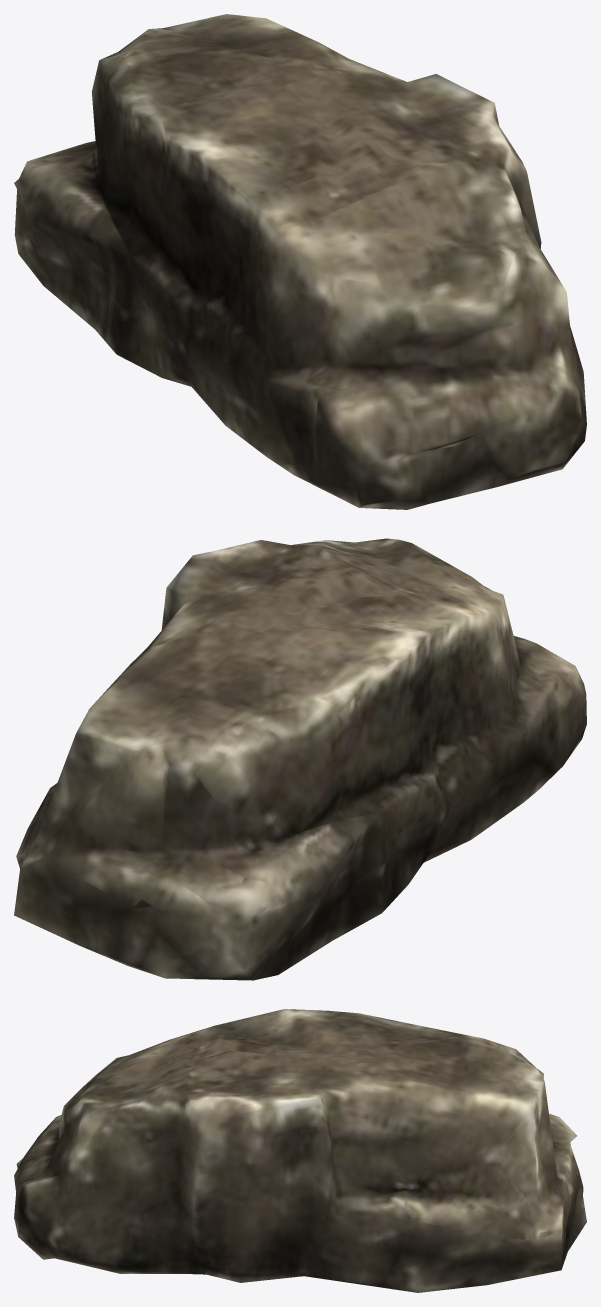
The model's file is ShiTou_5.fbx.
3 renders of one model, top to bottom at view 1: azimuth 30°, elevation 25°; view 2: azimuth 150°, elevation 25°; view 3: azimuth 270°, elevation 25°, orthographic. The views are drawn at different scales.
Visible parts, largest first — view 1: SM_RP_Vol_01_16; view 2: SM_RP_Vol_01_16; view 3: SM_RP_Vol_01_16.
Boxes of the visible parts, x1=… form: SM_RP_Vol_01_16: x1=14, y1=14, x2=586, y2=509; SM_RP_Vol_01_16: x1=14, y1=538, x2=586, y2=980; SM_RP_Vol_01_16: x1=14, y1=1009, x2=586, y2=1292.
Size of the model in its own units: 25.96 by 20.6 by 55.98.
